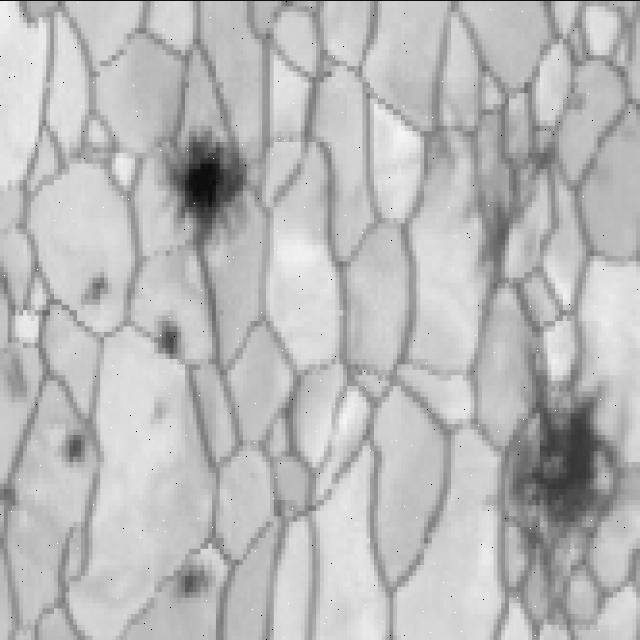good_void: (485, 379, 640, 573), (158, 113, 256, 263), (461, 145, 551, 302), (407, 75, 463, 192), (142, 383, 180, 435), (150, 310, 187, 363), (170, 565, 217, 601), (63, 413, 92, 467), (84, 265, 115, 307), (0, 469, 23, 523)
